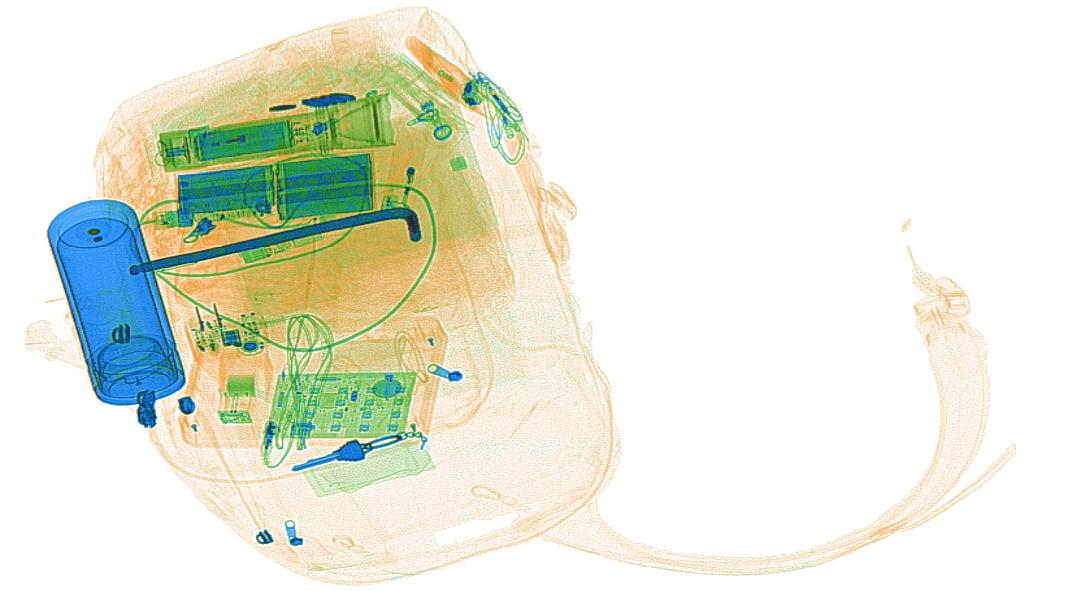USBFlashDisk: (233, 221, 323, 266)
battery: (168, 149, 382, 236), (190, 119, 294, 161)
lighter: (187, 111, 316, 153), (375, 127, 431, 218)
plasticBottleWithaNozzle: (403, 30, 500, 118)
